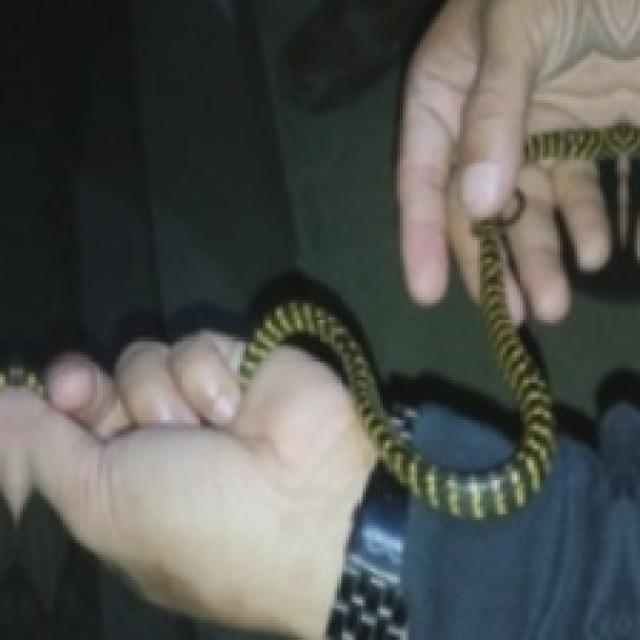mangrove cat snake: (240, 189, 551, 517), (240, 209, 551, 517), (523, 123, 637, 246)
